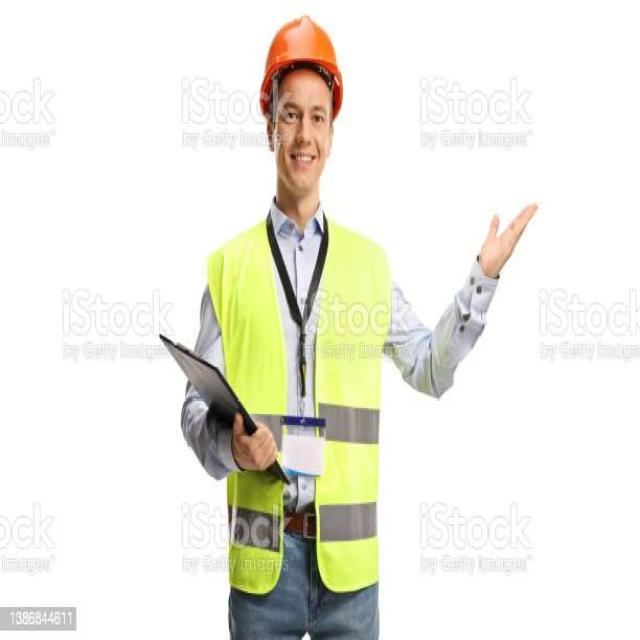helmet: (259, 18, 350, 91)
no-goggles: (270, 100, 335, 130)
vest: (206, 220, 391, 598)
